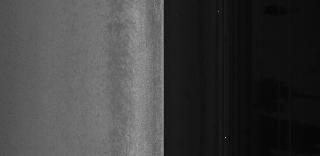silk spot: (108, 60, 144, 108)
